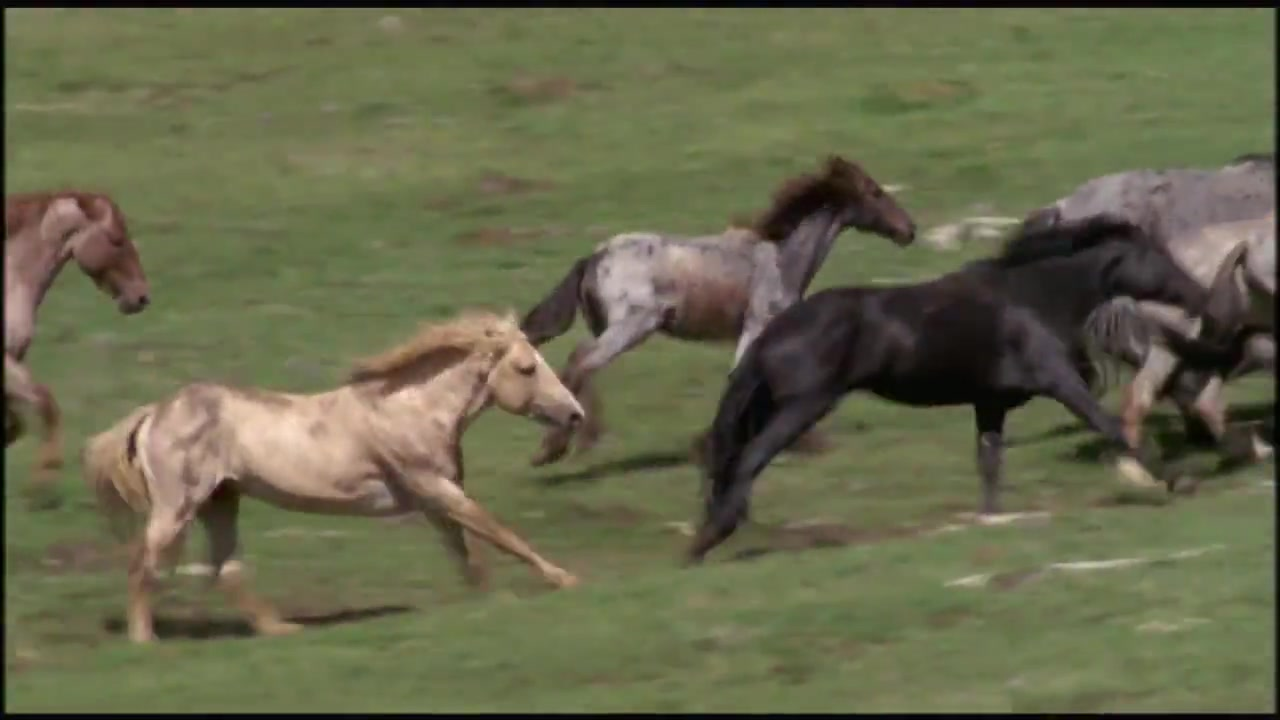horse: (82, 307, 588, 648)
